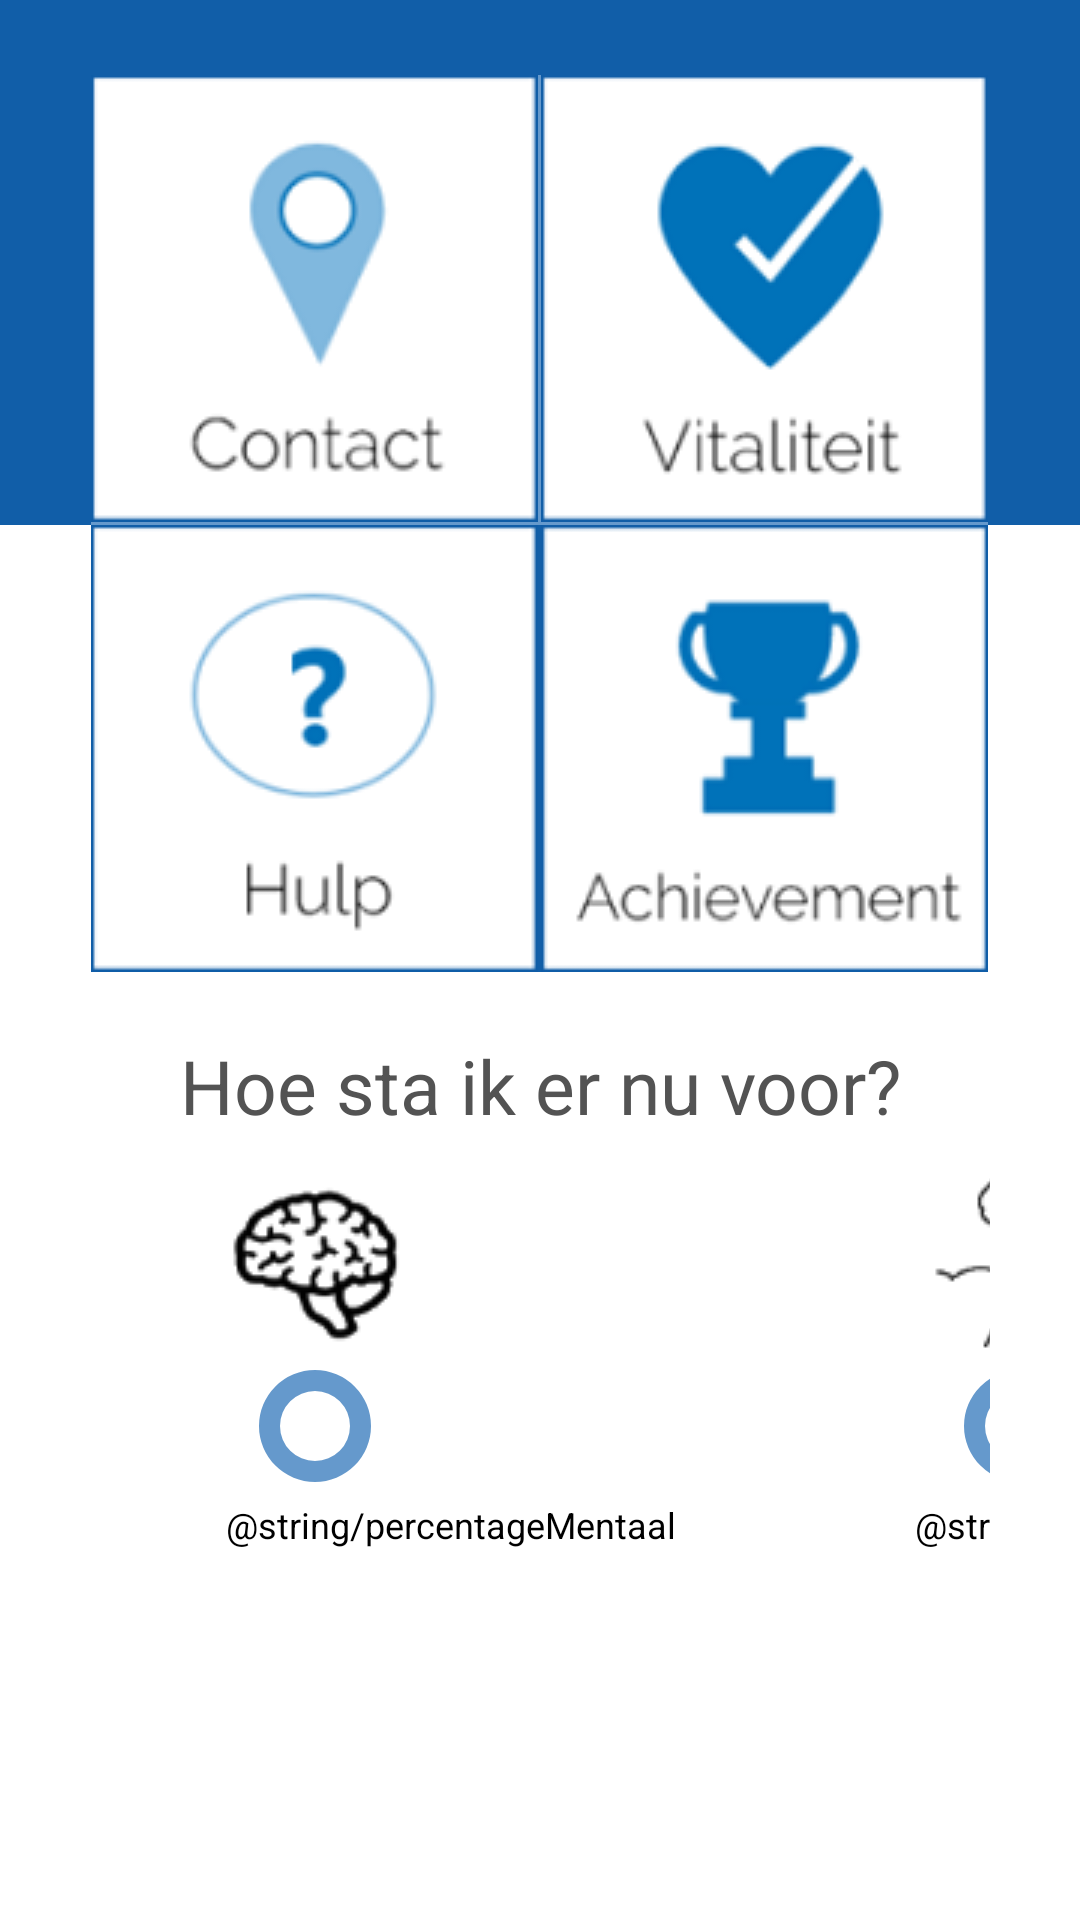

Locate icon controls on the screen. Image size 1080*1920, boxes as BBox(x1, y1, x2, y2).
home mentaal: BBox(233, 1190, 397, 1340)
